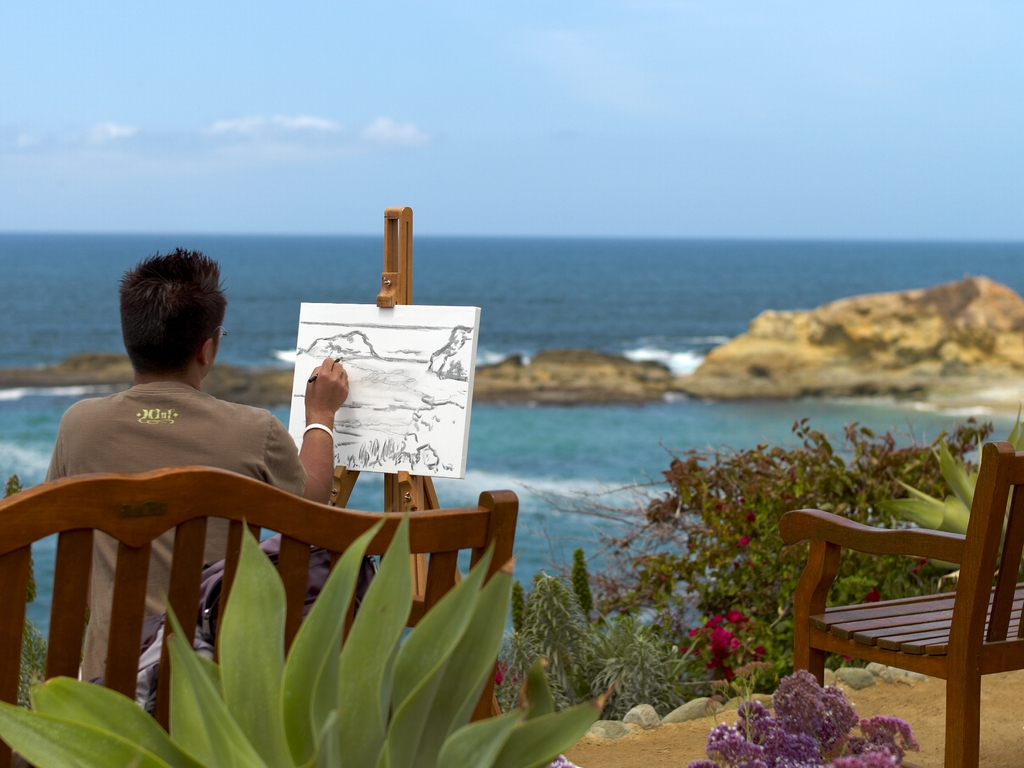Chair: (776, 441, 1023, 767)
